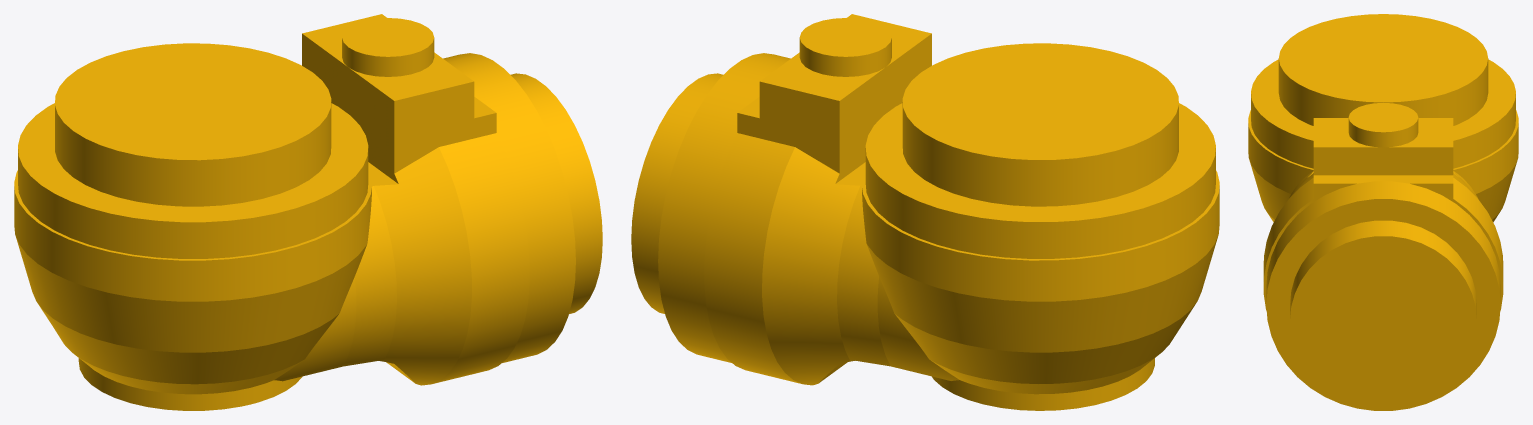
3 renders of one model, left to right at view 1: azimuth 30°, elevation 25°; view 2: azimuth 150°, elevation 25°; view 3: azimuth 270°, elevation 25°, orthographic. The views are drawn at different scales.
Visible parts, largest first — view 1: KR16-AV300.sldasm-Part-17-1-1; view 2: KR16-AV300.sldasm-Part-17-1-1; view 3: KR16-AV300.sldasm-Part-17-1-1.
Part boxes in pixels (x1=…): KR16-AV300.sldasm-Part-17-1-1: x1=14, y1=14, x2=602, y2=410; KR16-AV300.sldasm-Part-17-1-1: x1=631, y1=14, x2=1219, y2=410; KR16-AV300.sldasm-Part-17-1-1: x1=1248, y1=14, x2=1518, y2=410.
Bounding box in the file's own units: 0.1573 × 0.101 × 0.0969.
